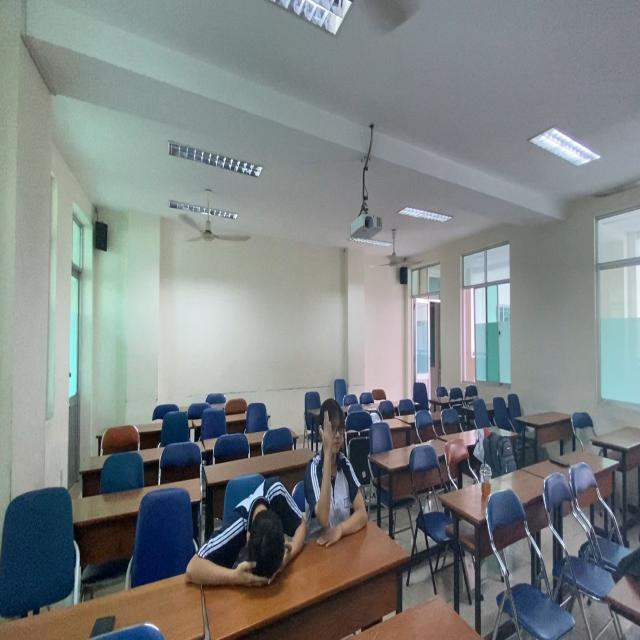raise_hand: (309, 394, 373, 547)
sleep: (183, 473, 309, 595)
